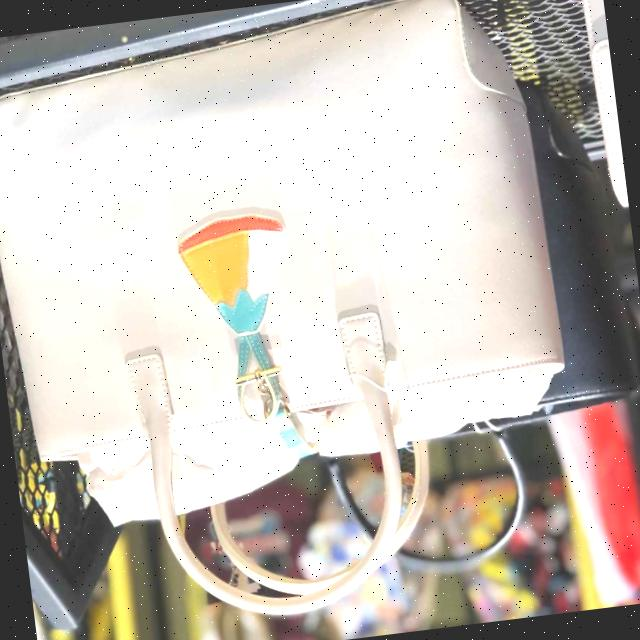handbag: (0, 0, 594, 508)
